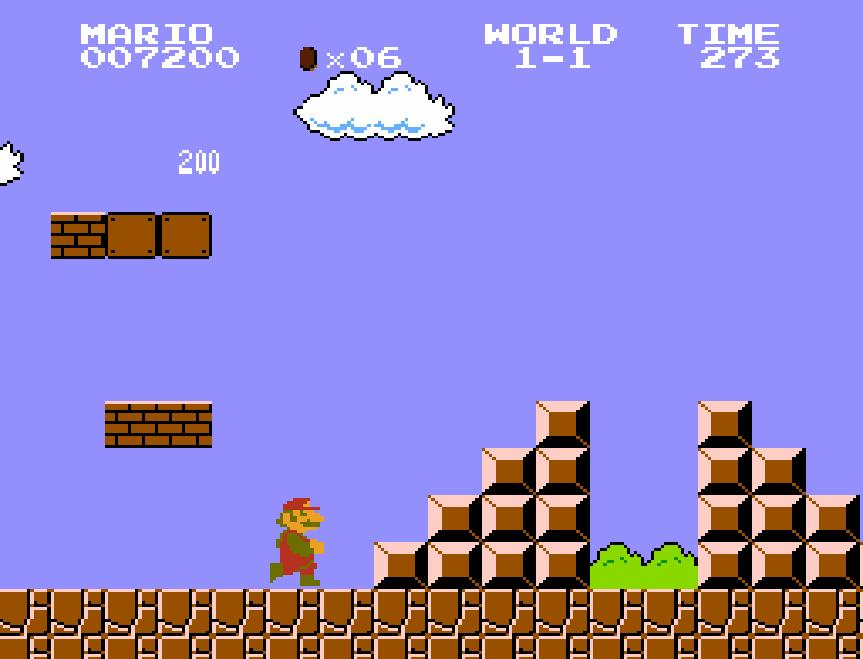big_mario: (267, 490, 325, 588)
